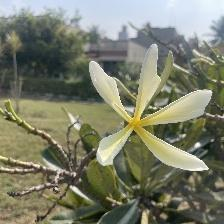champaka: (81, 44, 216, 179)
